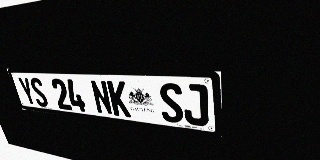2: (50, 78, 72, 110)
4: (64, 79, 87, 112)
J: (182, 83, 209, 127)
K: (107, 81, 131, 117)
N: (89, 80, 113, 115)
S: (158, 83, 184, 124), (28, 77, 50, 107)
Y: (17, 77, 38, 106)
